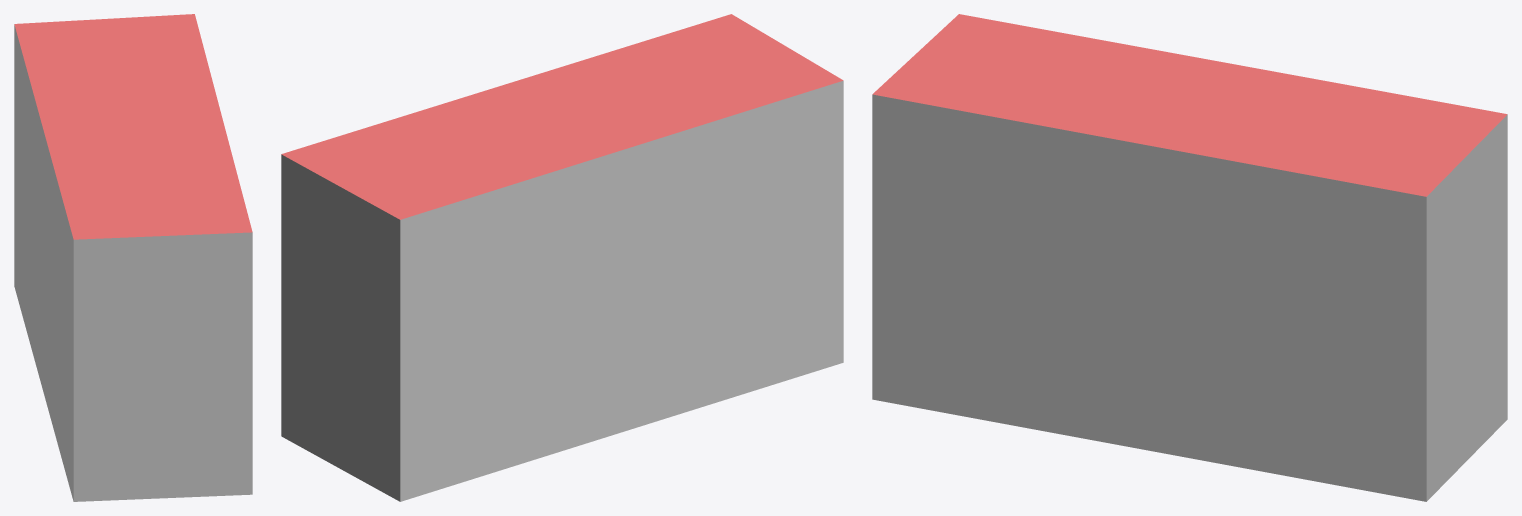
Rendered from DEBY_LOD2_42364607.gltf.
3 views of the same model, side by side, from view 1: azimuth 30°, elevation 25°; view 2: azimuth 150°, elevation 25°; view 3: azimuth 270°, elevation 25° (orthographic). The views are drawn at different scales.
Parts seen in each view (by area): view 1: Z_UP; view 2: Z_UP; view 3: Z_UP.
Boxes of the visible parts, x1=… form: Z_UP: x1=14, y1=14, x2=252, y2=501; Z_UP: x1=281, y1=14, x2=843, y2=501; Z_UP: x1=872, y1=14, x2=1507, y2=501.
Size of the model in its own units: 11.57 by 9 by 16.99.
